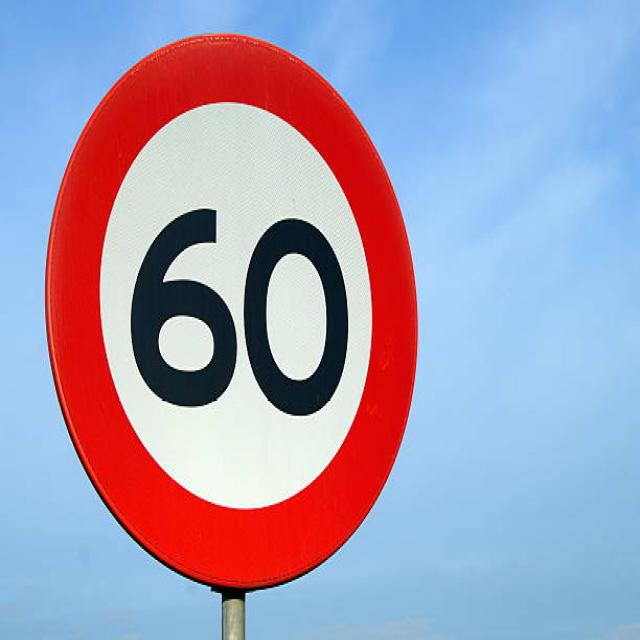speed_limit_60: (45, 27, 423, 590)
